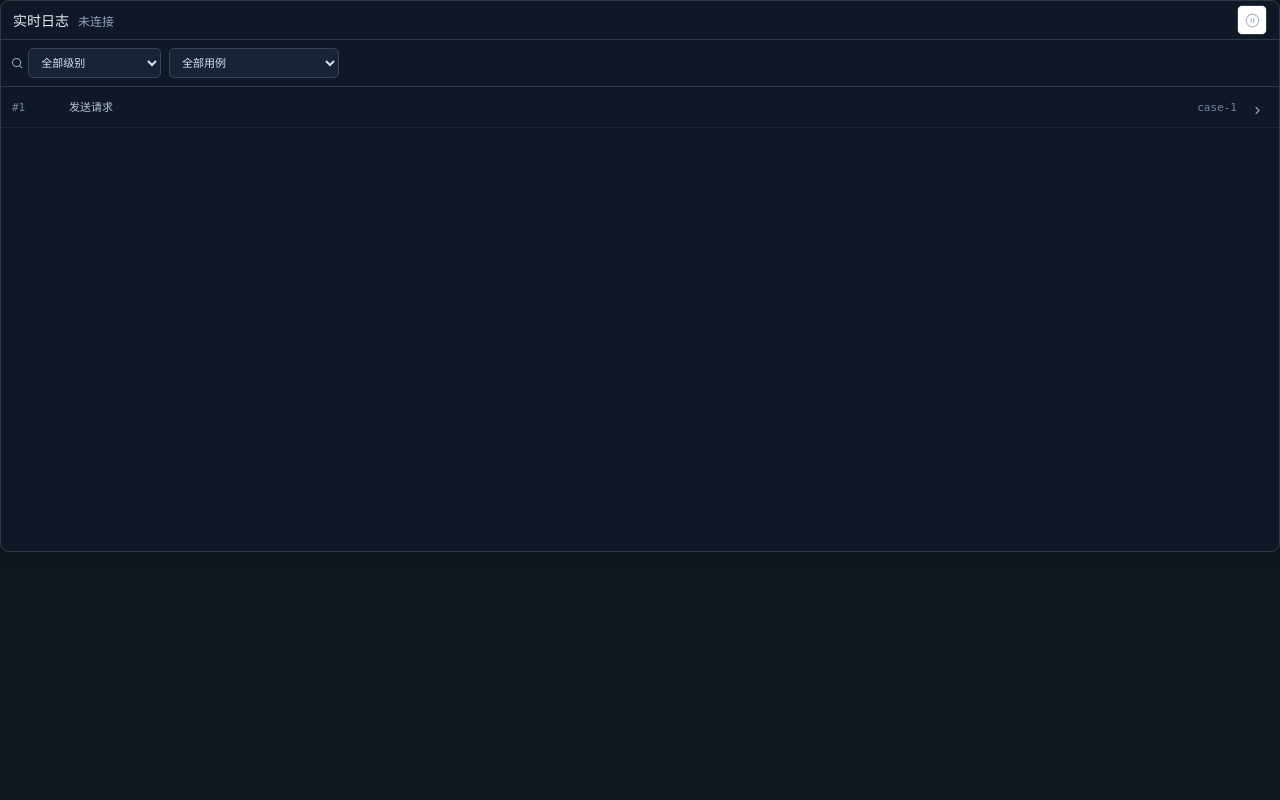
Scenario: ExecutionLog › redacts sensitive keys in expanded event evidence
Step 1. Click the button with test id "log-evidence-toggle" → (1257, 110), box left=1246, top=99, right=1268, bottom=121
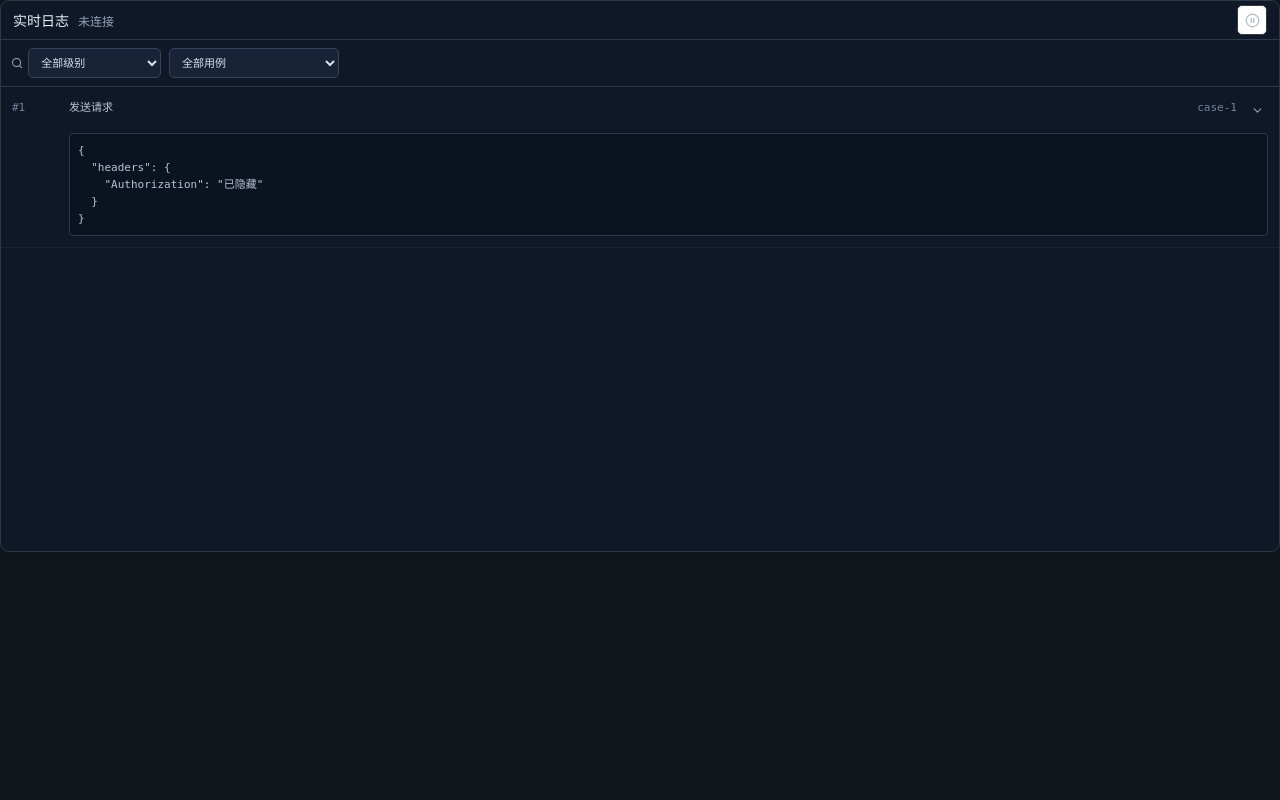
Expected: the text "已隐藏" is shown, left=78, top=144, right=263, bottom=225
